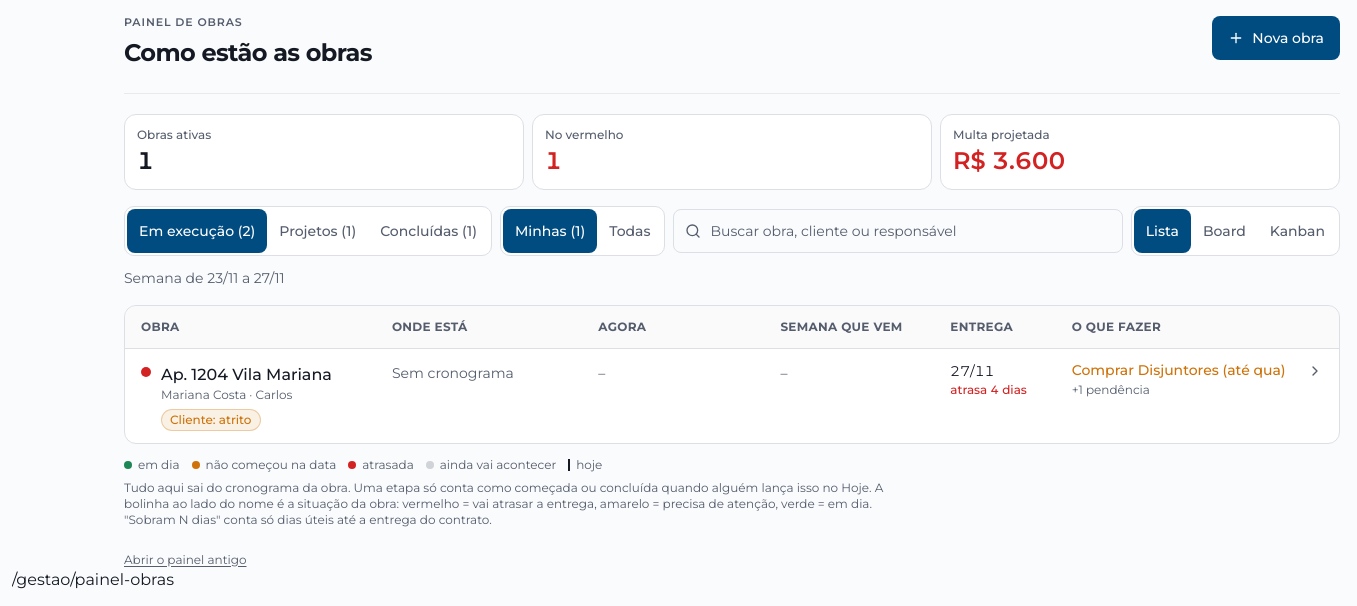
Painel de Obras reformulado › escritório › os números do topo não mudam ao trocar de lista
This screenshot has width=1357, height=606.
expect the text "1" below "Obras ativas" is shown: met, box [137,146,154,174]
Click the radio button labelled "Projetos (1)" at {"x": 318, "y": 230}, box [267,208,368,252]
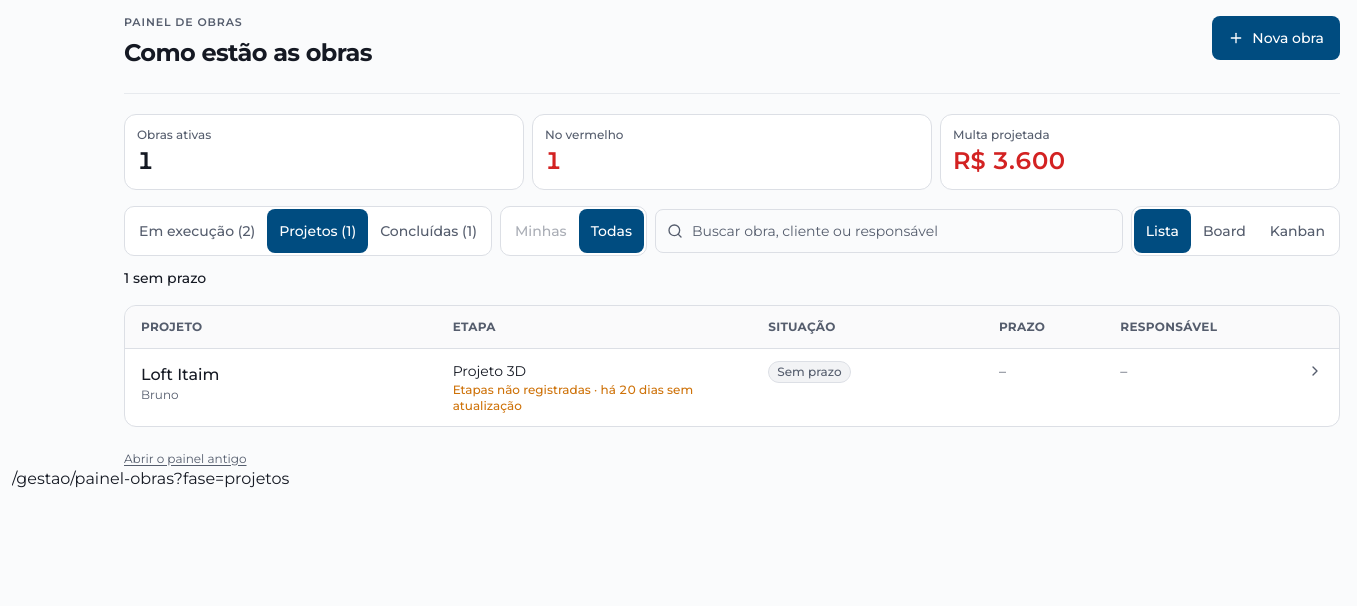
expect the text "1" below "Obras ativas" is shown: met, box [137,146,154,174]
expect the row "Loft Itaim" is shown: met, box [125,348,1339,426]
